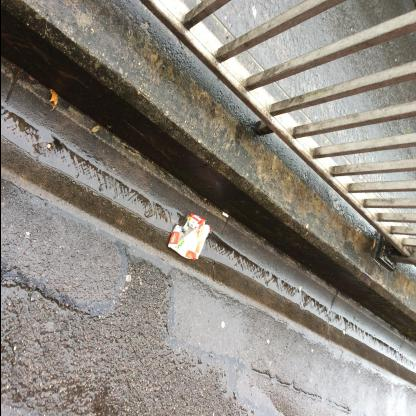karton: (166, 213, 212, 260)
